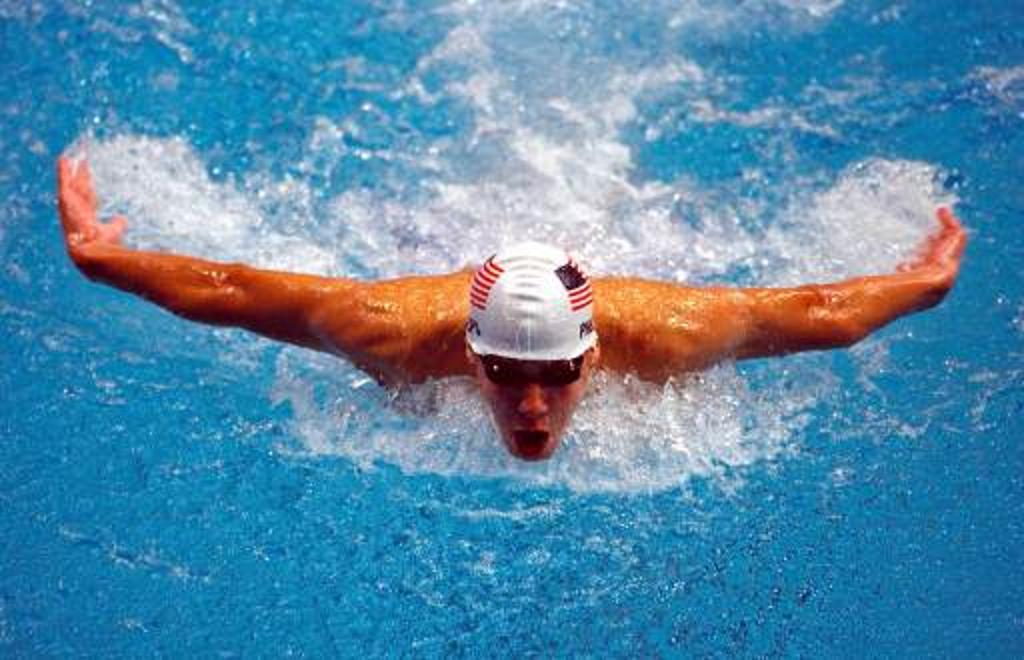face: (482, 328, 584, 464)
